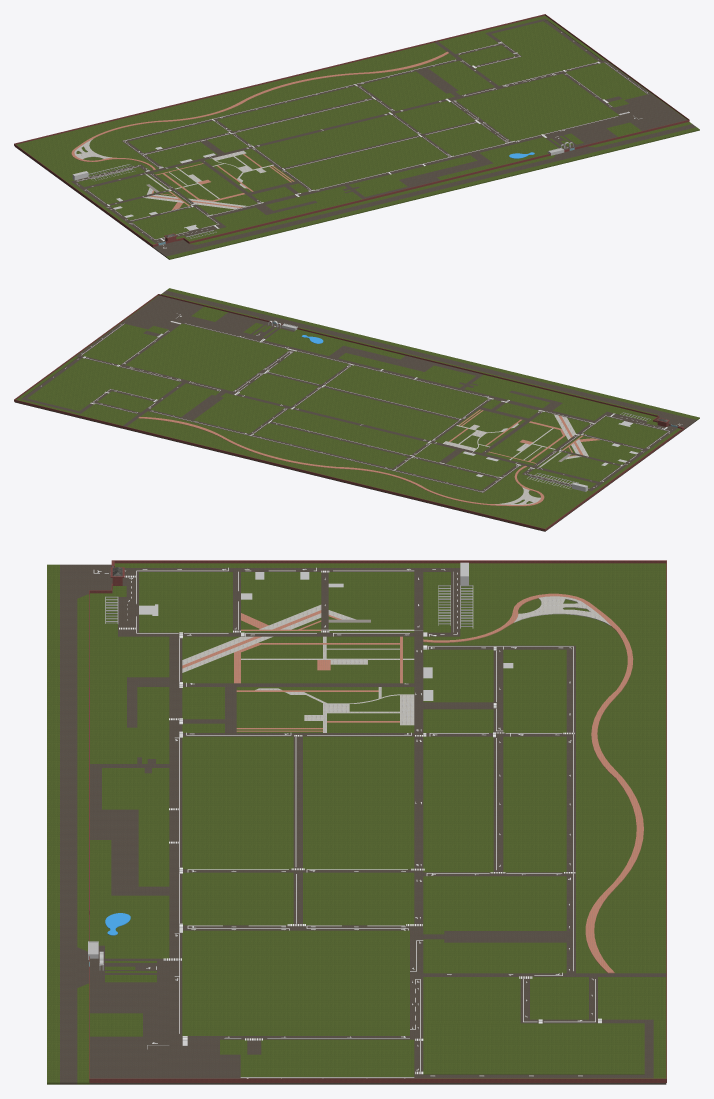
File: VIL.glb
3 views of the same model, one above another, from view 1: azimuth 30°, elevation 25°; view 2: azimuth 150°, elevation 25°; view 3: azimuth 270°, elevation 25° (orthographic). The views are drawn at different scales.
Parts seen in each view (by area): view 1: Garden, Road, Wall, Line, Gardenroad; view 2: Garden, Road, Wall, Line, Gardenroad; view 3: Garden, Road, Wall, Line, Gardenroad.
Boxes of the visible parts, bbox=[...] form: Garden: bbox=[16, 15, 699, 259]; Road: bbox=[15, 18, 696, 256]; Wall: bbox=[14, 14, 689, 246]; Line: bbox=[76, 32, 647, 248]; Gardenroad: bbox=[71, 51, 448, 169]; Garden: bbox=[16, 288, 699, 528]; Road: bbox=[15, 290, 696, 531]; Wall: bbox=[14, 294, 684, 530]; Line: bbox=[41, 313, 682, 492]; Gardenroad: bbox=[138, 417, 544, 506]; Garden: bbox=[47, 562, 666, 1084]; Road: bbox=[60, 564, 666, 1084]; Wall: bbox=[88, 560, 666, 1082]; Line: bbox=[93, 567, 601, 1078]; Gardenroad: bbox=[423, 593, 643, 973].
Size of the model in its own units: 574 by 8.1 by 290.
11 materials, 10 textured.
